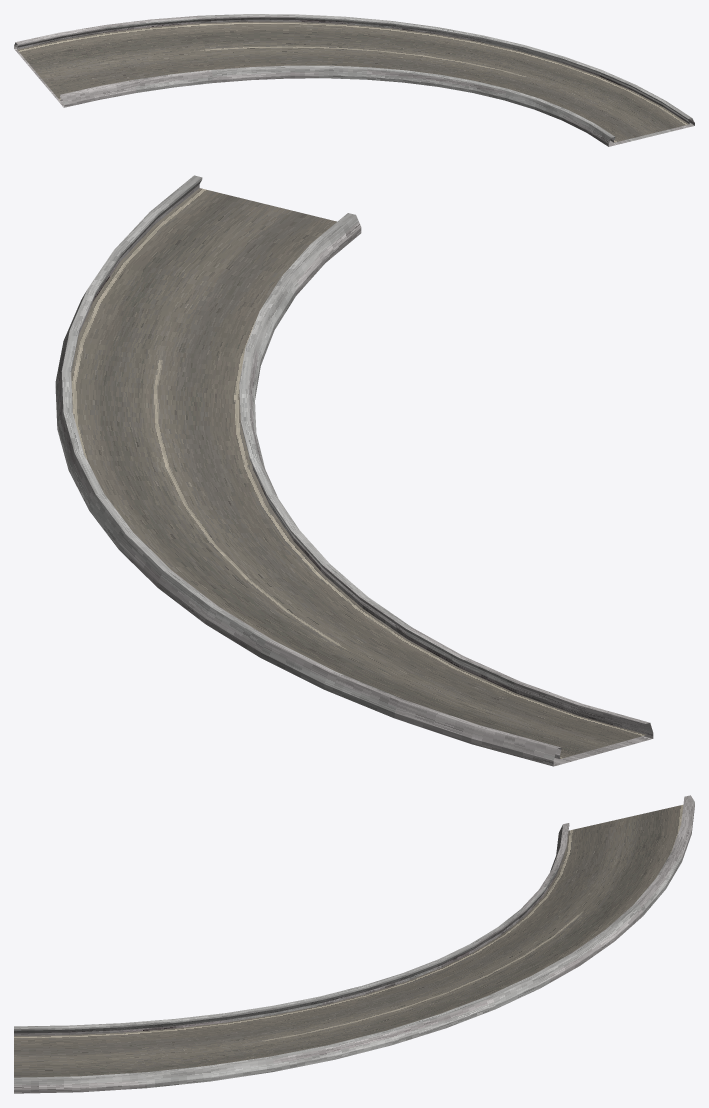
Rendered from road-Turn-Flat-HalfBankedLeft-Down1-Left-Size5.glb.
The picture shows the model from 3 angles, top to bottom: view 1: azimuth 30°, elevation 25°; view 2: azimuth 150°, elevation 25°; view 3: azimuth 270°, elevation 25°; orthographic projection. The views are drawn at different scales.
Visible parts, largest first — view 1: road-Turn-Flat-HalfBankedLeft-Down1-Left-Size5; view 2: road-Turn-Flat-HalfBankedLeft-Down1-Left-Size5; view 3: road-Turn-Flat-HalfBankedLeft-Down1-Left-Size5.
Part boxes in pixels (x1=…): road-Turn-Flat-HalfBankedLeft-Down1-Left-Size5: x1=14, y1=14, x2=694, y2=146; road-Turn-Flat-HalfBankedLeft-Down1-Left-Size5: x1=55, y1=175, x2=653, y2=766; road-Turn-Flat-HalfBankedLeft-Down1-Left-Size5: x1=14, y1=795, x2=694, y2=1093.
Bounding box in the file's own units: 5 × 0.3438 × 5.
2 materials, 2 textured.
